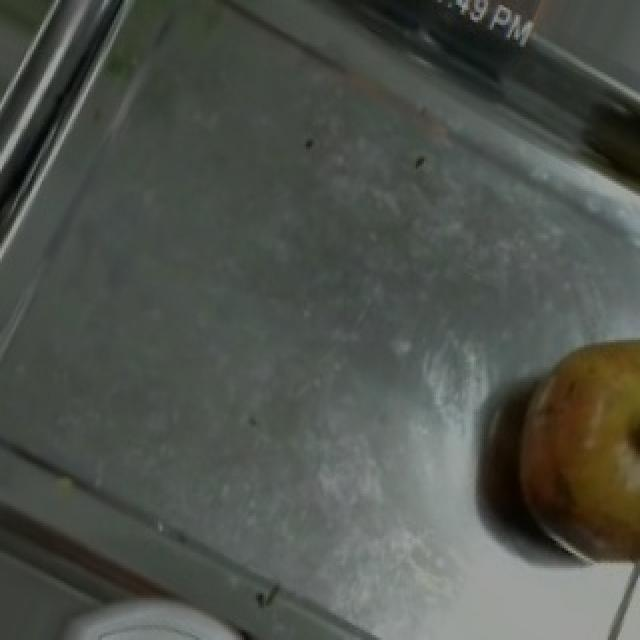fruit: (494, 310, 640, 588)
